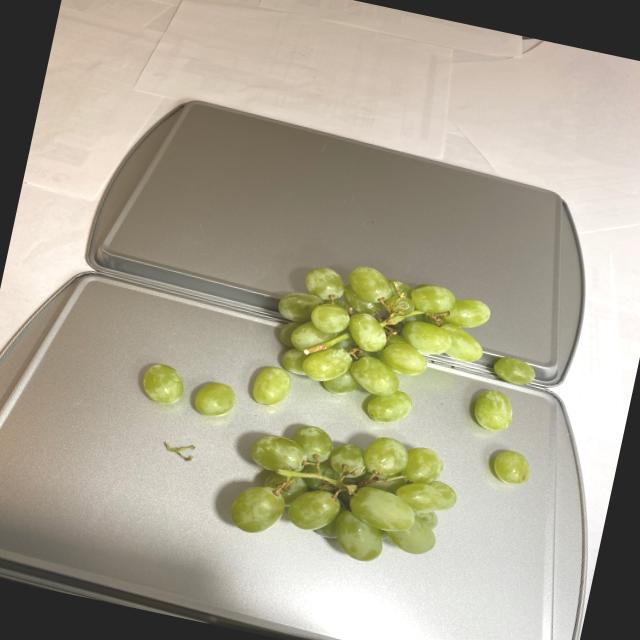grapes: (110, 226, 560, 593)
